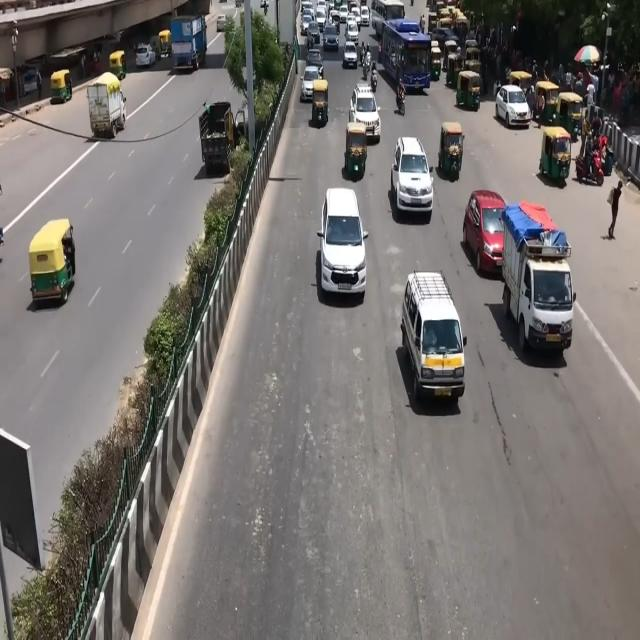auto: (500, 203, 575, 353), (28, 218, 75, 306), (86, 72, 127, 140), (539, 125, 573, 184), (438, 122, 464, 181), (556, 91, 584, 140), (344, 121, 368, 177), (308, 76, 332, 132), (534, 80, 560, 126), (455, 69, 481, 112), (50, 69, 72, 105), (446, 49, 465, 90), (509, 70, 533, 99), (464, 44, 482, 80), (109, 50, 127, 82), (430, 42, 442, 80)
bike-auto: (396, 80, 406, 112), (306, 27, 316, 52), (364, 50, 372, 76), (371, 58, 377, 88), (360, 42, 366, 66), (420, 14, 426, 34), (264, 0, 269, 13)
